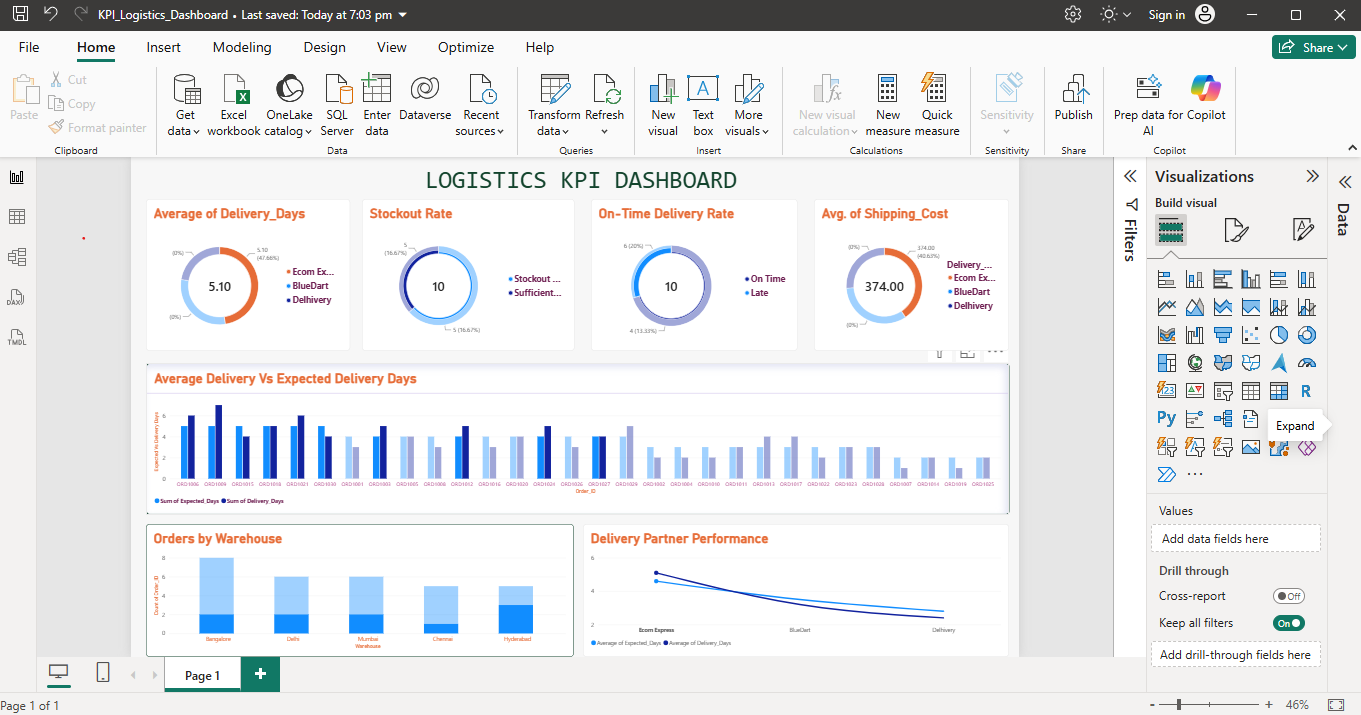

This screenshot's page, from the dashboard's own definition file:
{"tool":"powerbi","page":{"name":"Page 1","canvas":[1920,1080],"ordinal":0},"visuals":[{"type":"clusteredColumnChart","title":"Orders by Warehouse","fields":{"Category":["ecommerce_logistics.Warehouse"],"Y":["CountNonNull(ecommerce_logistics.Order_ID)"]},"box":[32.4,792.7,924.5,287.3],"z":0},{"type":"clusteredColumnChart","title":"Average Delivery Vs Expected Delivery Days","fields":{"Category":["ecommerce_logistics.Order_ID"],"Y":["Sum(ecommerce_logistics.Expected_Days)","Sum(ecommerce_logistics.Delivery_Days)"]},"box":[32.4,438.5,1864.6,327.6],"z":1000},{"type":"textbox","box":[32.8,17.6,1887.2,73.1],"z":2000},{"type":"cardVisual","title":"Stockout Rate","fields":{"Data":["CountNonNull(ecommerce_logistics.Order_ID)"],"Rows":["ecommerce_logistics.Stockout Status"]},"box":[1438.6,90.7,458.6,327.6],"z":3000},{"type":"cardVisual","title":"On-Time Delivery Rate","fields":{"Data":["CountNonNull(ecommerce_logistics.Order_ID)"],"Rows":["ecommerce_logistics.Delivery Status"]},"box":[494.6,90.7,446,327.6],"z":4000},{"type":"clusteredBarChart","title":"Delivery Partner Performance","fields":{"Category":["ecommerce_logistics.Delivery_Partner"],"Y":["Avg(ecommerce_logistics.Expected_Days)","Avg(ecommerce_logistics.Delivery_Days)"]},"box":[1000.1,792.7,920.2,287.3],"z":5000},{"type":"cardVisual","title":"Avg. of Shipping_Cost","fields":{"Data":["Avg(ecommerce_logistics.Shipping_Cost)"],"Rows":["ecommerce_logistics.Delivery_Partner"]},"box":[1000.1,90.7,420.8,327.6],"z":6000},{"type":"cardVisual","title":"Average of Delivery_Days","fields":{"Data":["Avg(ecommerce_logistics.Delivery_Days)"],"Rows":["ecommerce_logistics.Delivery_Partner"]},"box":[32.8,90.7,440.9,327.6],"z":7000}]}

Visuals, with their boxes on the page's 1920x1080 design canvas (x1, y1, x2, y2). These are canvas units, not pixel positions in the 1361x715 screenshot, which may show the page scaled, cropped or inside an application window:
"Orders by Warehouse" clusteredColumnChart: crop(32, 793, 957, 1080)
"Average Delivery Vs Expected Delivery Days" clusteredColumnChart: crop(32, 438, 1897, 766)
textbox: crop(33, 18, 1920, 91)
"Stockout Rate" cardVisual: crop(1439, 91, 1897, 418)
"On-Time Delivery Rate" cardVisual: crop(495, 91, 941, 418)
"Delivery Partner Performance" clusteredBarChart: crop(1000, 793, 1920, 1080)
"Avg. of Shipping_Cost" cardVisual: crop(1000, 91, 1421, 418)
"Average of Delivery_Days" cardVisual: crop(33, 91, 474, 418)
